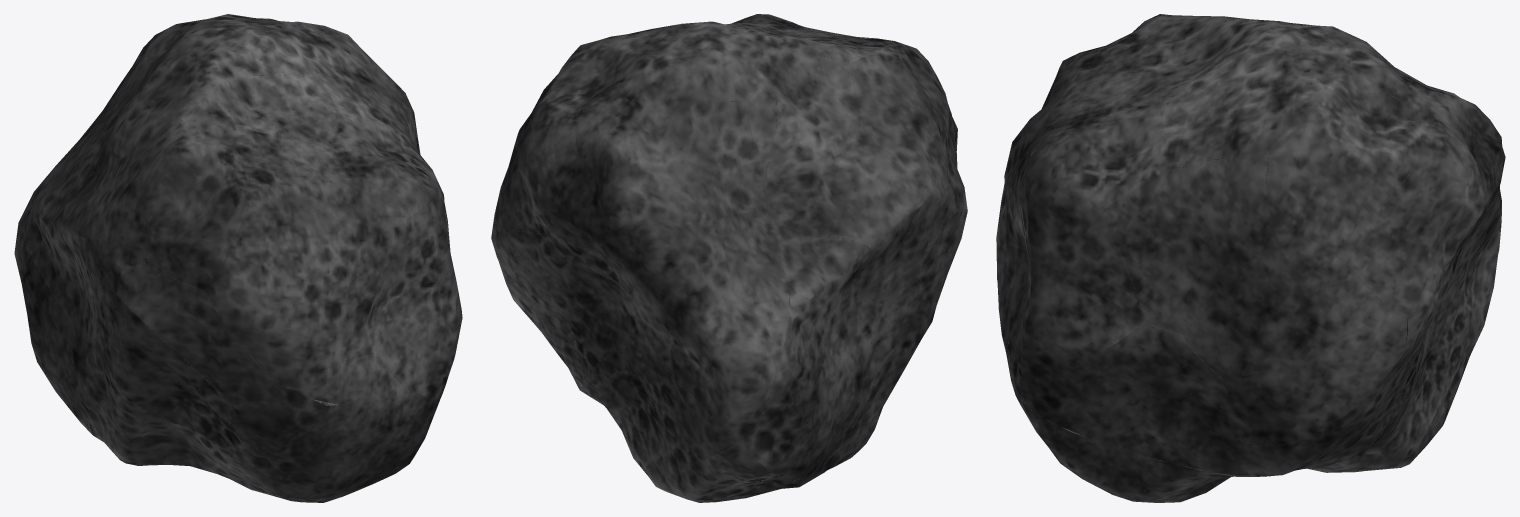
Rendered from Asteroid1.fbx.
The picture shows the model from 3 angles, left to right: view 1: azimuth 30°, elevation 25°; view 2: azimuth 150°, elevation 25°; view 3: azimuth 270°, elevation 25°; orthographic projection. The views are drawn at different scales.
Parts seen in each view (by area): view 1: Asteroid_no_3_cell.052, Asteroid_no_3_cell.050, Asteroid_no_3_cell.038, Asteroid_no_3_cell.022, Asteroid_no_3_cell.026, Asteroid_no_3_cell.051, Asteroid_no_3_cell.019, Asteroid_no_3_cell.016, Asteroid_no_3_cell.070, Asteroid_no_3_cell.069, Asteroid_no_3_cell.046, Asteroid_no_3_cell.005 (+14 smaller); view 2: Asteroid_no_3_cell.042, Asteroid_no_3_cell.030, Asteroid_no_3_cell.072, Asteroid_no_3_cell.069, Asteroid_no_3_cell.010, Asteroid_no_3_cell.028, Asteroid_no_3_cell.054, Asteroid_no_3_cell.070, Asteroid_no_3_cell.063, Asteroid_no_3_cell.065, Asteroid_no_3_cell.043, Asteroid_no_3_cell.012 (+20 smaller); view 3: Asteroid_no_3_cell.031, Asteroid_no_3_cell.055, Asteroid_no_3_cell.038, Asteroid_no_3_cell.002, Asteroid_no_3_cell.056, Asteroid_no_3_cell.040, Asteroid_no_3_cell.051, Asteroid_no_3_cell.013, Asteroid_no_3_cell.046, Asteroid_no_3_cell.052, Asteroid_no_3_cell.054, Asteroid_no_3_cell.016 (+19 smaller).
Part boxes in pixels (x1,y1,x2,y2): Asteroid_no_3_cell.052: (206, 155, 407, 387); Asteroid_no_3_cell.050: (215, 384, 438, 502); Asteroid_no_3_cell.038: (372, 186, 462, 403); Asteroid_no_3_cell.022: (144, 142, 249, 291); Asteroid_no_3_cell.026: (116, 263, 274, 411); Asteroid_no_3_cell.051: (280, 115, 439, 219); Asteroid_no_3_cell.019: (99, 293, 239, 441); Asteroid_no_3_cell.016: (179, 52, 280, 165); Asteroid_no_3_cell.070: (97, 116, 198, 268); Asteroid_no_3_cell.069: (15, 238, 93, 420); Asteroid_no_3_cell.046: (237, 27, 382, 103); Asteroid_no_3_cell.005: (253, 74, 394, 130); Asteroid_no_3_cell.042: (599, 214, 789, 432); Asteroid_no_3_cell.030: (542, 112, 767, 258); Asteroid_no_3_cell.072: (493, 226, 657, 379); Asteroid_no_3_cell.069: (733, 349, 871, 480); Asteroid_no_3_cell.010: (765, 137, 936, 250); Asteroid_no_3_cell.028: (760, 45, 859, 201); Asteroid_no_3_cell.054: (614, 22, 764, 101); Asteroid_no_3_cell.070: (848, 49, 954, 182); Asteroid_no_3_cell.063: (609, 100, 764, 192); Asteroid_no_3_cell.065: (852, 182, 959, 304); Asteroid_no_3_cell.043: (783, 276, 875, 363); Asteroid_no_3_cell.012: (643, 360, 736, 469); Asteroid_no_3_cell.031: (1026, 323, 1248, 475); Asteroid_no_3_cell.055: (1101, 165, 1289, 335); Asteroid_no_3_cell.038: (1008, 174, 1145, 395); Asteroid_no_3_cell.002: (1181, 225, 1388, 377); Asteroid_no_3_cell.056: (1266, 83, 1422, 248); Asteroid_no_3_cell.040: (1330, 122, 1484, 317); Asteroid_no_3_cell.051: (1025, 72, 1169, 213); Asteroid_no_3_cell.013: (1221, 311, 1407, 446); Asteroid_no_3_cell.046: (1206, 29, 1306, 160); Asteroid_no_3_cell.052: (996, 52, 1119, 278); Asteroid_no_3_cell.054: (1260, 20, 1409, 94); Asteroid_no_3_cell.016: (1112, 16, 1270, 72).
Bounding box in the file's own units: 664 × 720 × 738.
Materials: 1 (1 with a texture image).
